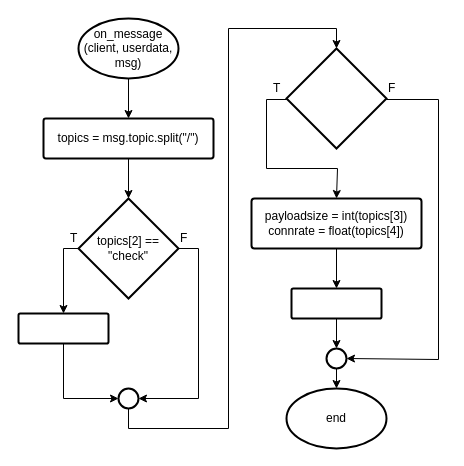
The diagram is 464 pixels wide and 466 high, and some of its shapes have lost their labels. Here are the shapes that lost their labels. From the top down, the centre of each, then its label:
point (336, 98): topics[2] == "start"
point (336, 303): state = 3
point (63, 328): state = 2
